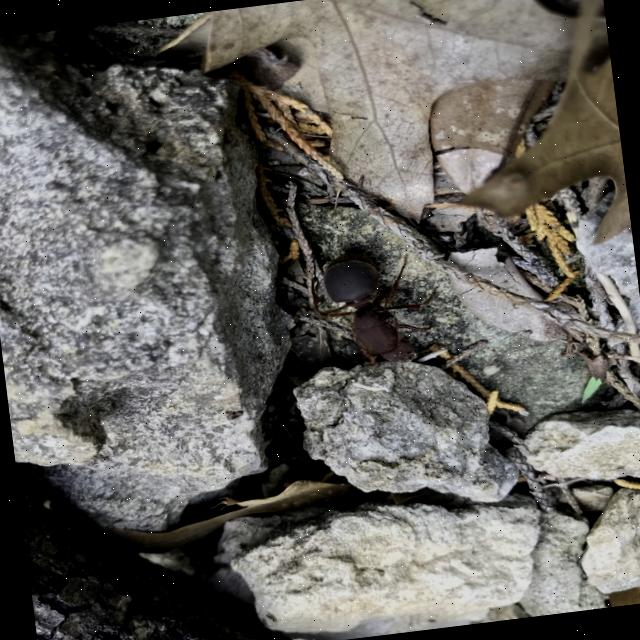Alive-Female-Dealate: (306, 240, 456, 384)
